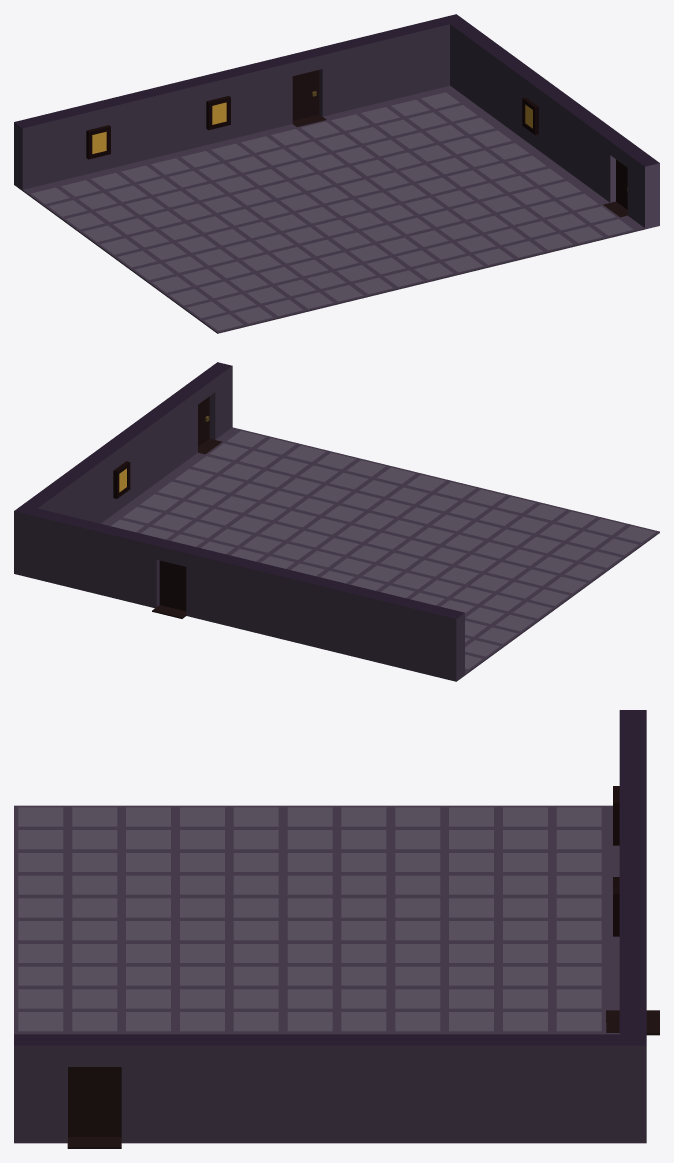
Rendered from prototype_scene.dae.
The picture shows the model from 3 angles, top to bottom: view 1: azimuth 30°, elevation 25°; view 2: azimuth 150°, elevation 25°; view 3: azimuth 270°, elevation 25°; orthographic projection. The views are drawn at different scales.
Visible parts, largest first — view 1: wall1_MSH12, wall1_MSH23, wall1_MSH2, wall1_MSH, wall1_MSH11, wall1_MSH3, wall1_MSH8, wall1_MSH4, wall1_MSH7, wall1_MSH5, wall_wall1_MSH, wall1_MSH9 (+173 smaller); view 2: wall1_MSH12, wall1_MSH2, wall1_MSH6, wall1_MSH, wall1_MSH8, wall1_MSH9, wall1_MSH11, wall1_MSH3, wall1_MSH4, wall1_MSH5, wall_wall1_MSH, wall1_MSH7 (+119 smaller); view 3: wall1_MSH14, wall1_MSH20, wall1_MSH13, wall1_MSH15, wall1_MSH21, wall1_MSH16, wall1_MSH19, wall1_MSH17, wall1_MSH18, wall1_MSH23, corner_corner_MSH, door (+125 smaller).
Boxes of the visible parts, x1=… form: wall1_MSH12: x1=14, y1=115, x2=56, y2=193; wall1_MSH23: x1=620, y1=150, x2=659, y2=230; wall1_MSH2: x1=314, y1=41, x2=356, y2=119; wall1_MSH: x1=254, y1=56, x2=296, y2=134; wall1_MSH11: x1=44, y1=107, x2=86, y2=185; wall1_MSH3: x1=344, y1=34, x2=386, y2=112; wall1_MSH8: x1=134, y1=85, x2=176, y2=163; wall1_MSH4: x1=374, y1=27, x2=416, y2=104; wall1_MSH7: x1=164, y1=78, x2=206, y2=156; wall1_MSH5: x1=404, y1=19, x2=446, y2=97; wall_wall1_MSH: x1=224, y1=63, x2=266, y2=141; wall1_MSH9: x1=104, y1=93, x2=146, y2=170; wall1_MSH12: x1=426, y1=605, x2=469, y2=681; wall1_MSH2: x1=126, y1=532, x2=164, y2=608; wall1_MSH6: x1=246, y1=561, x2=284, y2=637; wall1_MSH: x1=186, y1=547, x2=224, y2=623; wall1_MSH8: x1=306, y1=576, x2=344, y2=652; wall1_MSH9: x1=336, y1=583, x2=374, y2=659; wall1_MSH11: x1=396, y1=598, x2=434, y2=674; wall1_MSH3: x1=96, y1=525, x2=134, y2=601; wall1_MSH4: x1=66, y1=517, x2=104, y2=593; wall1_MSH5: x1=36, y1=510, x2=74, y2=586; wall_wall1_MSH: x1=216, y1=554, x2=254, y2=630; wall1_MSH7: x1=276, y1=569, x2=314, y2=644; wall1_MSH14: x1=498, y1=1034, x2=552, y2=1143; wall1_MSH20: x1=175, y1=1034, x2=229, y2=1143; wall1_MSH13: x1=552, y1=1034, x2=606, y2=1143; wall1_MSH15: x1=444, y1=1034, x2=498, y2=1143; wall1_MSH21: x1=121, y1=1034, x2=175, y2=1143; wall1_MSH16: x1=390, y1=1034, x2=444, y2=1143; wall1_MSH19: x1=229, y1=1034, x2=283, y2=1143; wall1_MSH17: x1=337, y1=1034, x2=390, y2=1143; wall1_MSH18: x1=283, y1=1034, x2=336, y2=1143; wall1_MSH23: x1=14, y1=1034, x2=67, y2=1143; corner_corner_MSH: x1=606, y1=1028, x2=646, y2=1143; door: x1=68, y1=1067, x2=121, y2=1136.
Size of the model in its own units: 15 by 2 by 12.
